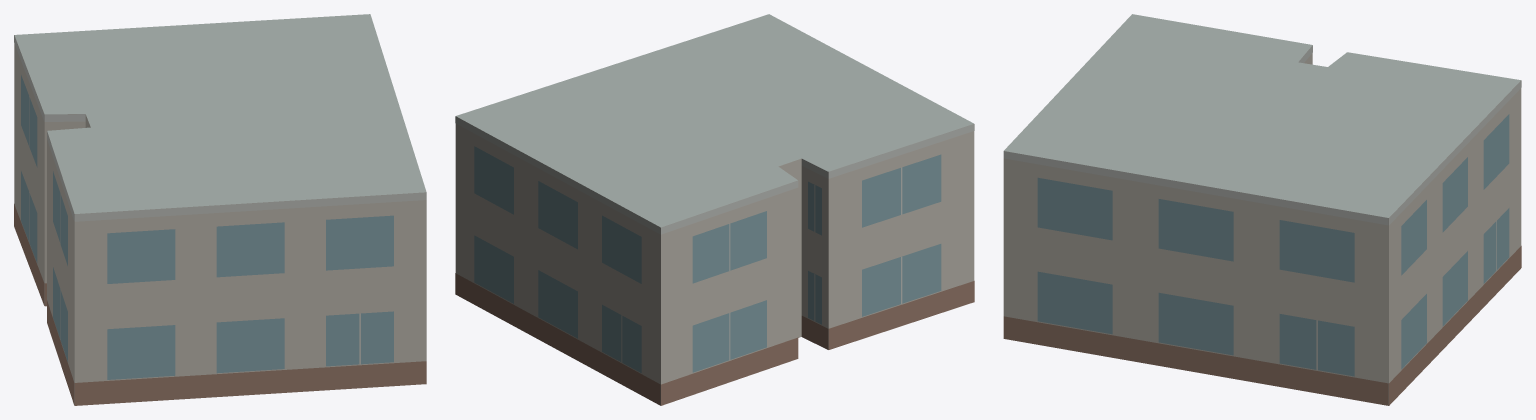
The model's file is survey-upis-32681405.glb.
3 views of the same model, side by side, from view 1: azimuth 30°, elevation 25°; view 2: azimuth 150°, elevation 25°; view 3: azimuth 270°, elevation 25° (orthographic). The views are drawn at different scales.
Visible parts, largest first — view 1: survey-upis-32681405.tmp; view 2: survey-upis-32681405.tmp; view 3: survey-upis-32681405.tmp.
Boxes of the visible parts, box(x1,y1,x2,y2) form: survey-upis-32681405.tmp: box(14, 14, 426, 405); survey-upis-32681405.tmp: box(455, 14, 974, 405); survey-upis-32681405.tmp: box(1003, 14, 1521, 405).
Bounding box in the file's own units: 14.22 × 6.1 × 15.25.
